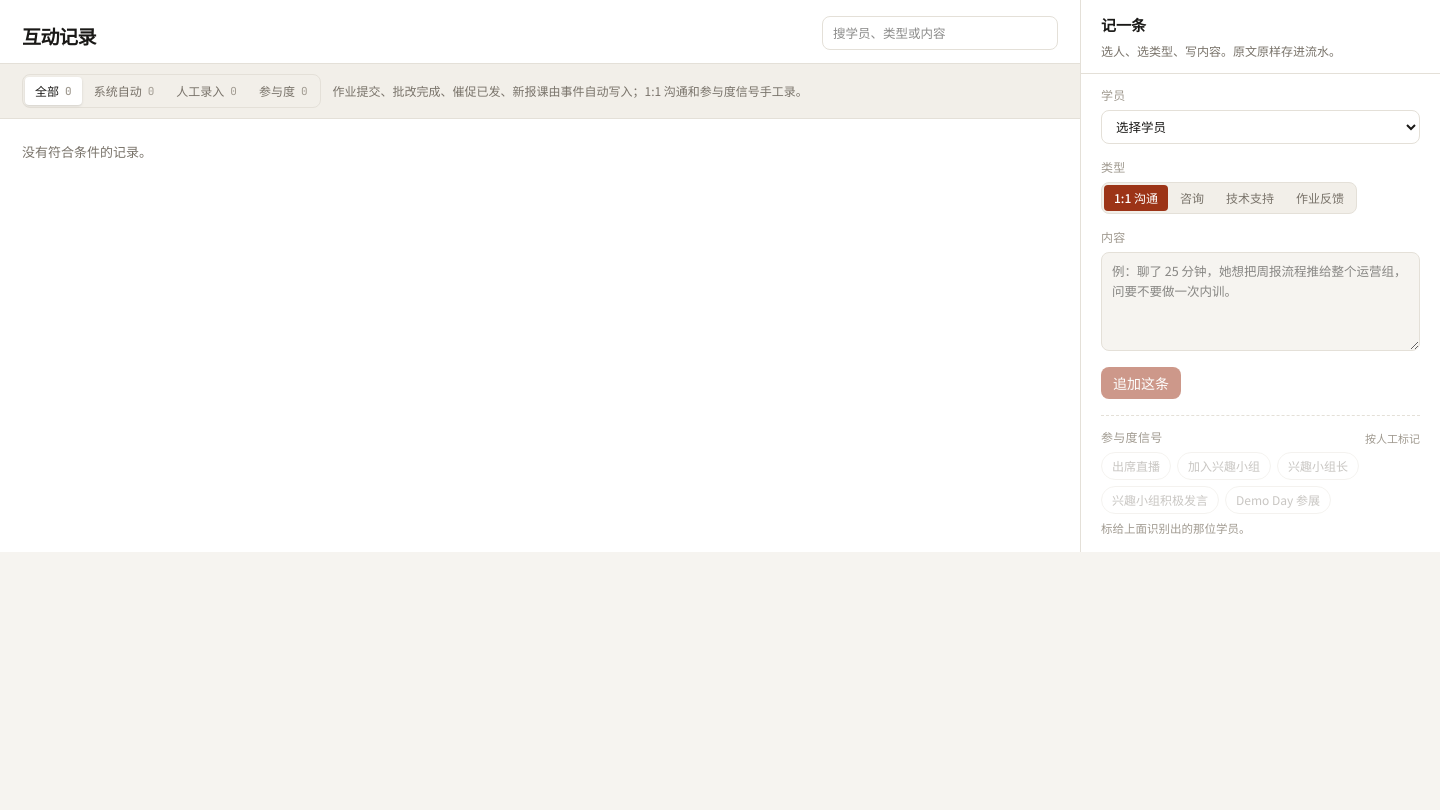
Test: 参与度信号确认 › 点信号先弹确认框，此时还没有写入
Select "学员甲" in the dropdown labelled "学员" at (1260, 126), box [1101,110,1420,144]
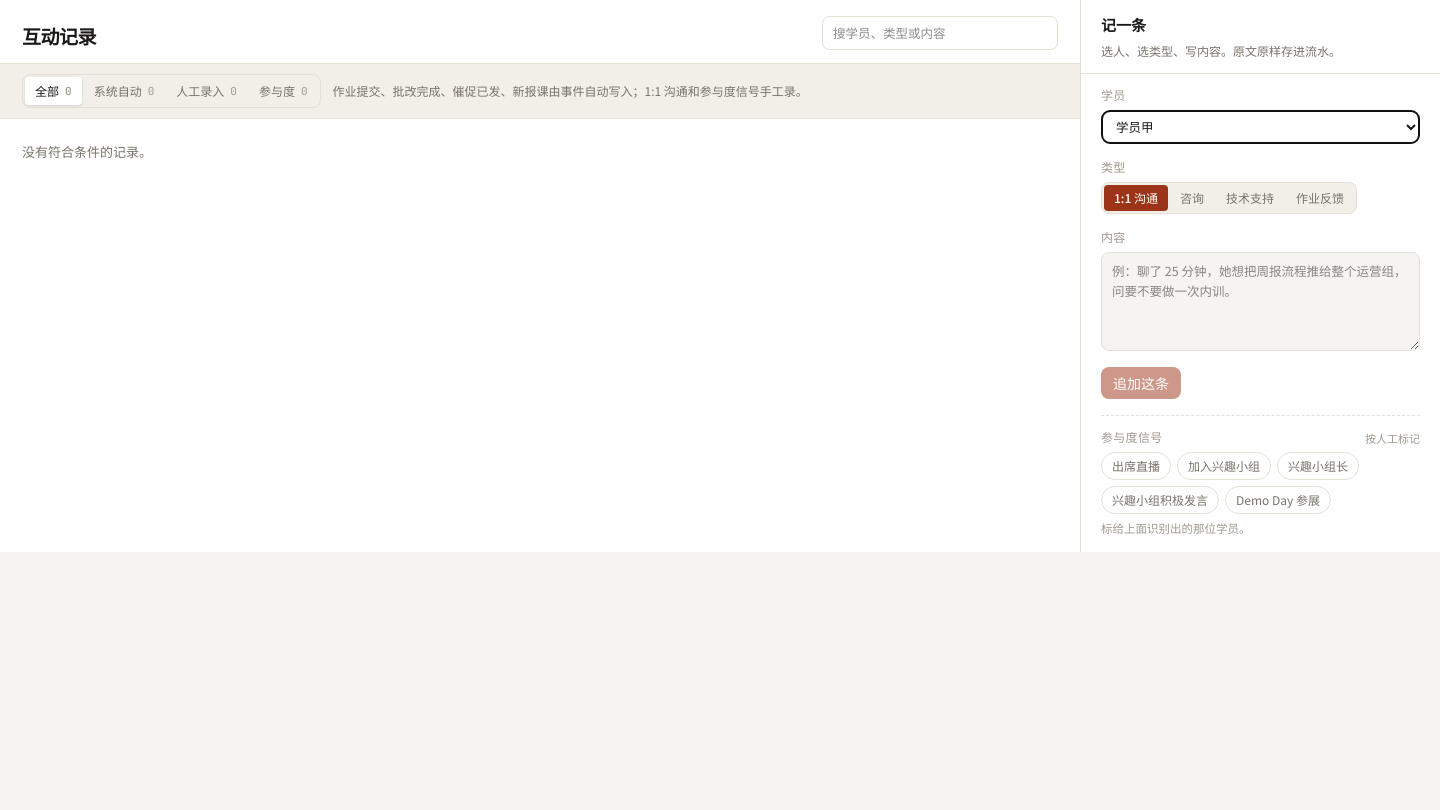
Click the button "出席直播" at (1136, 466), box [1101,452,1171,480]
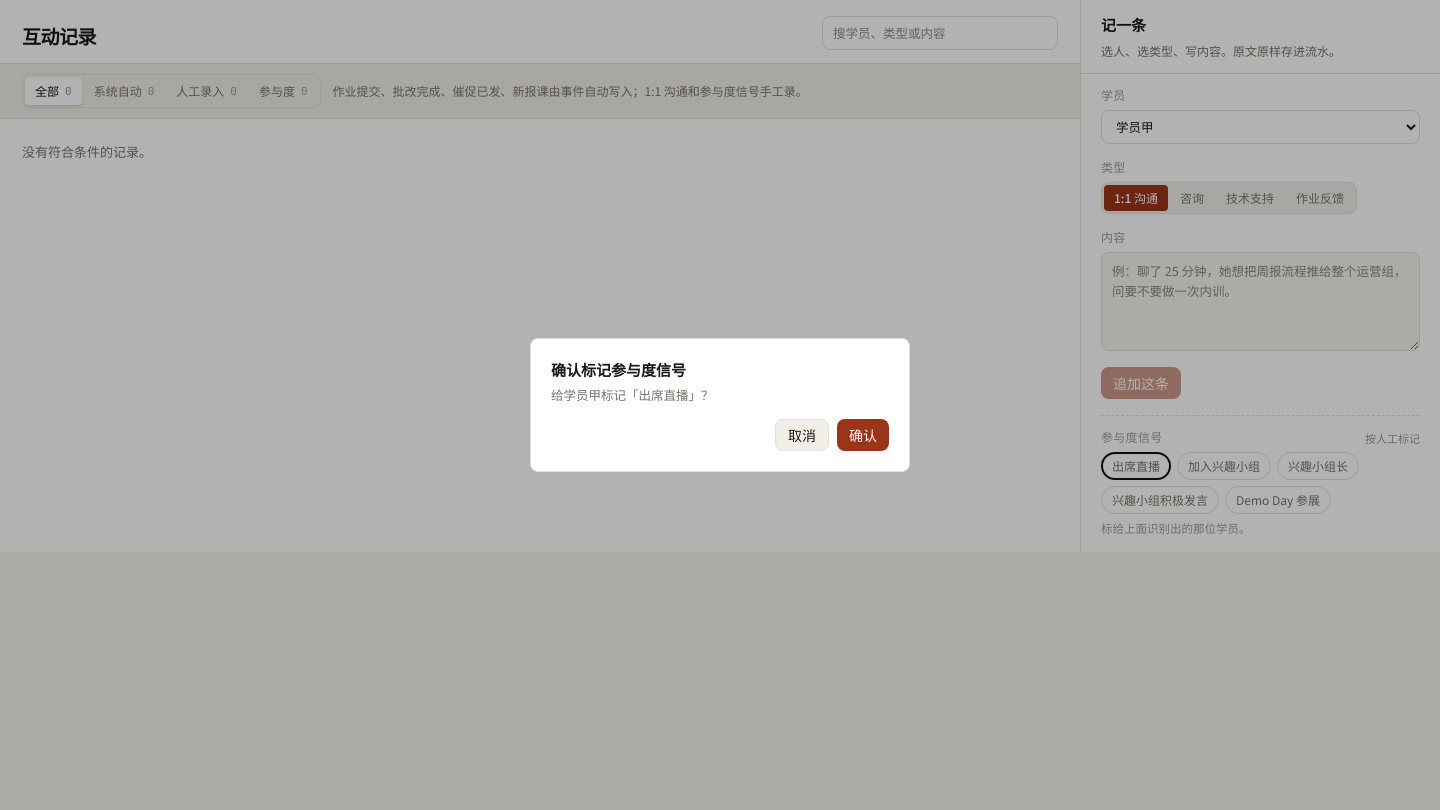
Check: the text "给学员甲标记「出席直播」？" is shown, box [551,385,714,404]
